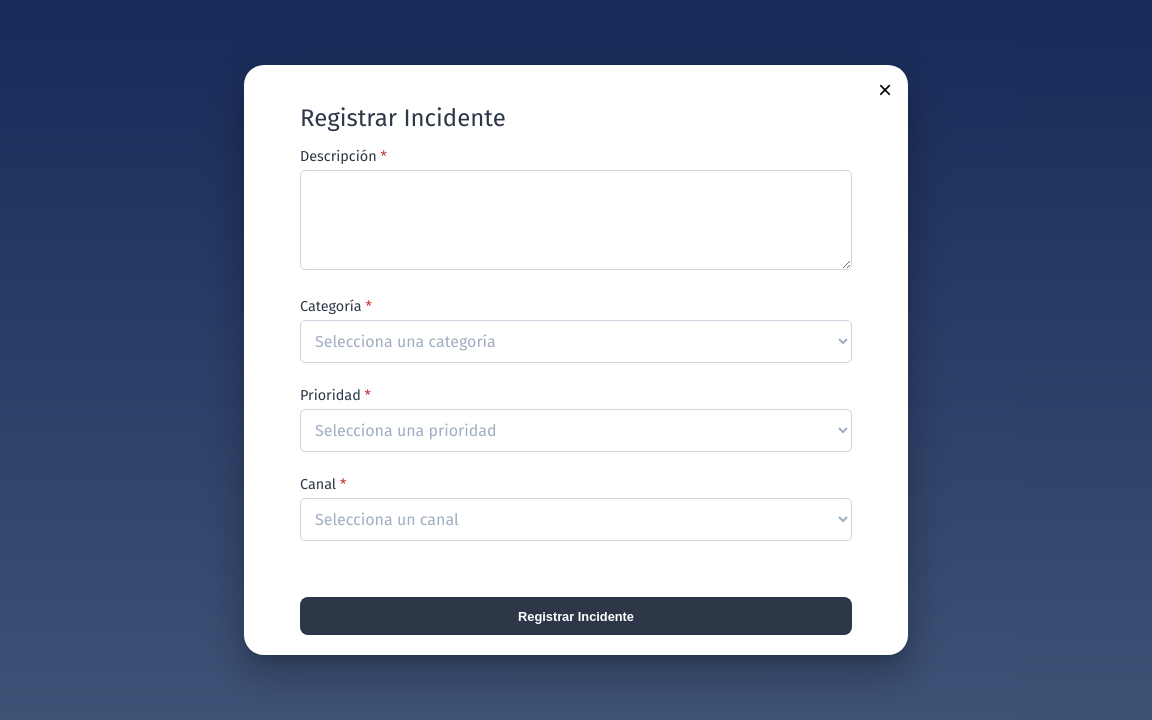
CreateIncident component › shows error message when submission fails
Type "Incidente de prueba" into the text box labelled "Descripción" at {"x": 576, "y": 220}, box [300,170,852,270]
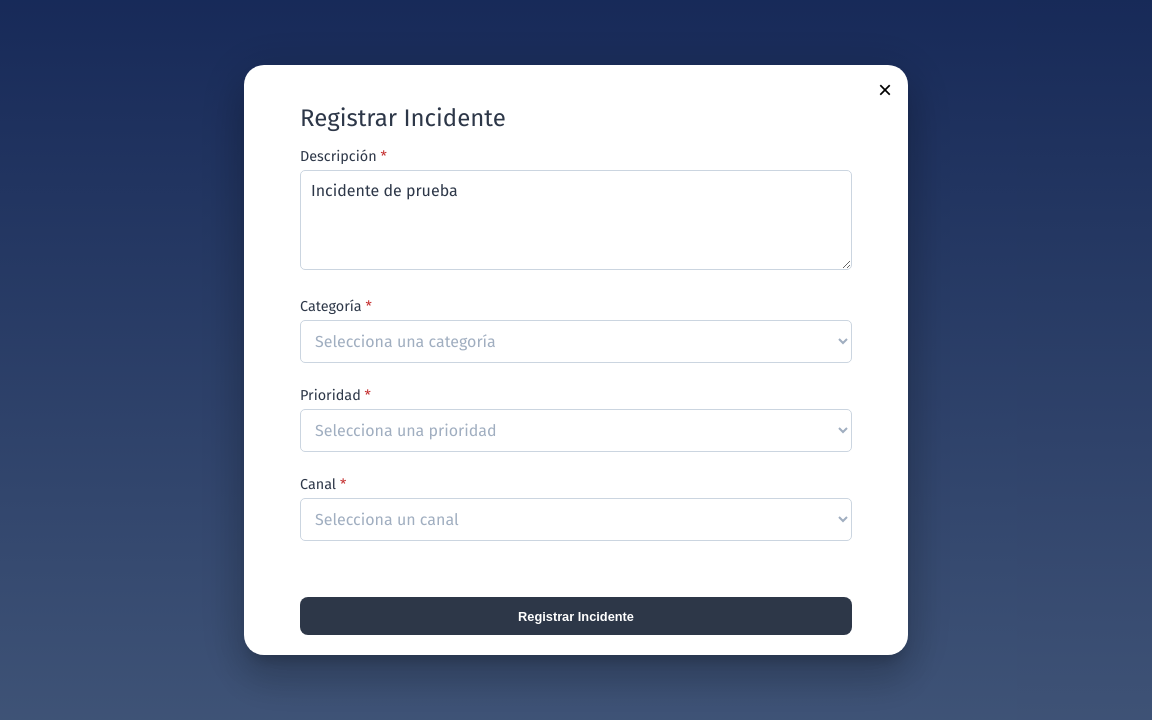
Select "Hardware" in the dropdown labelled "Categoría" at {"x": 576, "y": 342}, box [300,320,852,364]
Select "Alta" in the dropdown labelled "Prioridad" at {"x": 576, "y": 431}, box [300,410,852,452]
Select "Email" in the dropdown labelled "Canal" at {"x": 576, "y": 520}, box [300,498,852,542]
Submit the form from the button "Registrar Incidente", box [300,598,852,636]
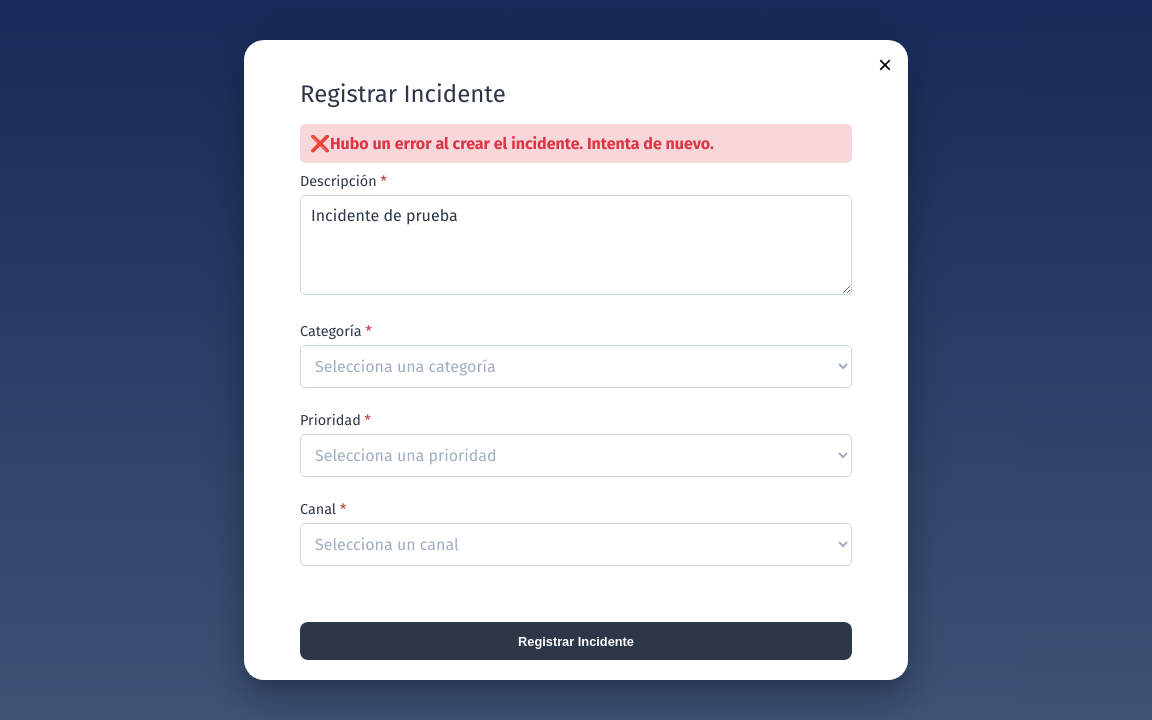
Now the text "❌ Hubo un error al crear el incidente. Intenta de nuevo." is shown, box [300,124,852,163]
